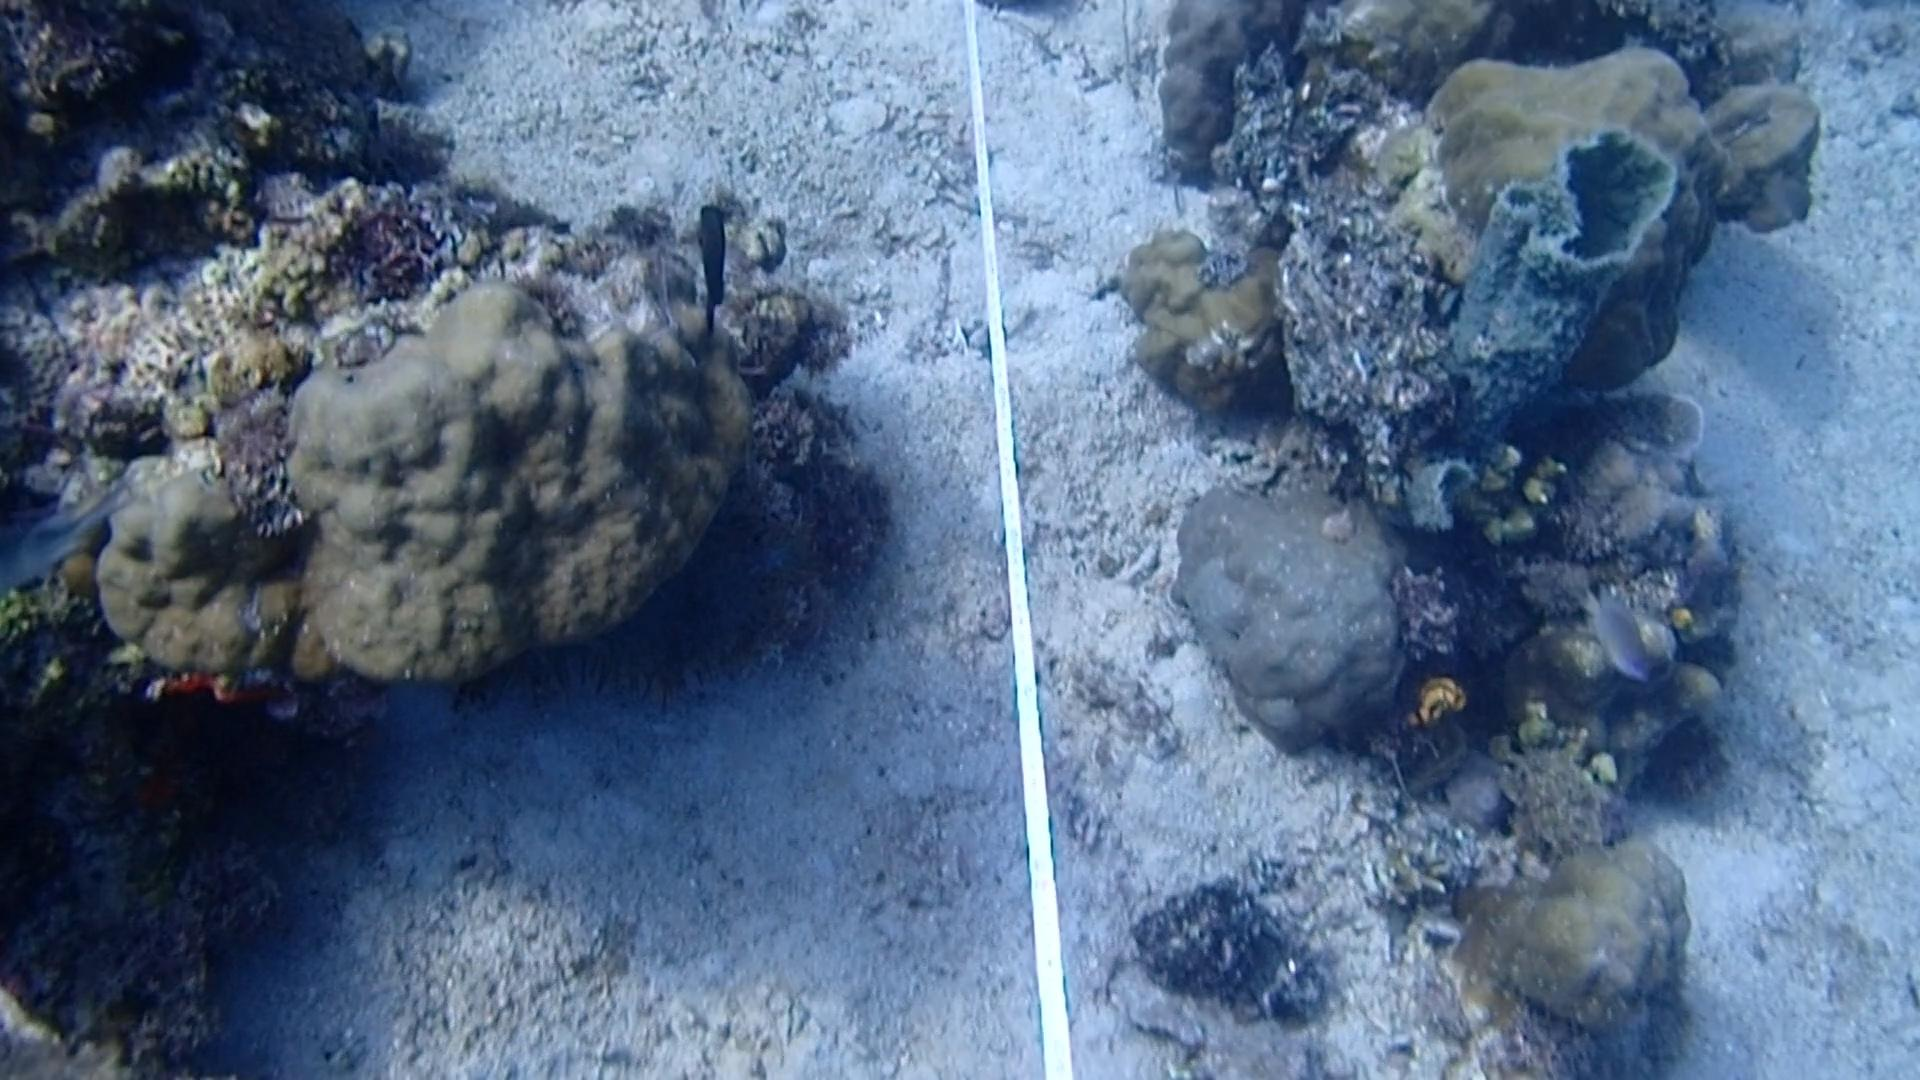Blue Nose Fish: (1580, 564, 1667, 687)
Dark Fish: (667, 196, 753, 353)
